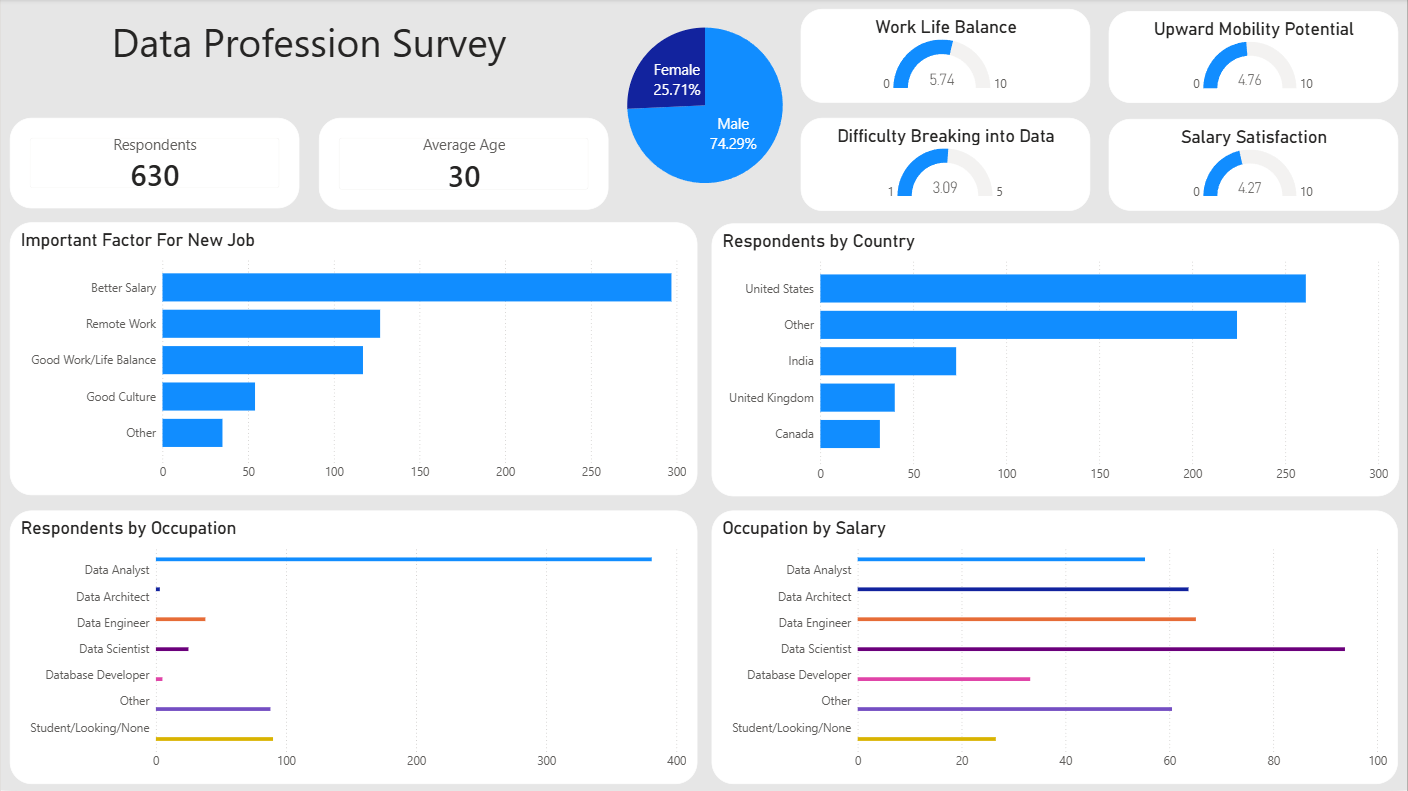

The dashboard page shown, as its layout file describes it:
{"tool":"powerbi","page":{"name":"Page 1","canvas":[1920,1080],"ordinal":0},"visuals":[{"type":"textbox","box":[11.9,17,817.7,124.4],"z":0},{"type":"cardVisual","fields":{"Data":["CountNonNull(Data Professional Survey.Q1 - Which Title Best Fits your Current Role?.1)"]},"box":[12.1,162.9,395.1,123.7],"z":1000},{"type":"clusteredBarChart","title":"Respondents by Country","fields":{"Category":["Data Professional Survey.Q11 - Which Country do you live in?.1"],"Y":["CountNonNull(Data Professional Survey.Q11 - Which Country do you live in?.1)"]},"box":[970.3,306.7,939.1,372.5],"z":2000},{"type":"clusteredBarChart","title":"Respondents by Occupation","fields":{"Category":["Data Professional Survey.Q1 - Which Title Best Fits your Current Role?.1"],"Y":["CountNonNull(Data Professional Survey.Q1 - Which Title Best Fits your Current Role?.1)"],"Series":["Data Professional Survey.Q1 - Which Title Best Fits your Current Role?.1"]},"box":[12.2,698.1,939,373.4],"z":3000},{"type":"clusteredBarChart","title":"Occupation by Salary","fields":{"Category":["Data Professional Survey.Q1 - Which Title Best Fits your Current Role?.1"],"Y":["Avg(Data Professional Survey.avg salary)"],"Series":["Data Professional Survey.Q1 - Which Title Best Fits your Current Role?.1"]},"box":[970.1,698.1,937.6,373.4],"z":4000},{"type":"pieChart","title":"Sex","fields":{"Category":["Data Professional Survey.Q9 - Male/Female?"],"Y":["CountNonNull(Data Professional Survey.Q9 - Male/Female?)"]},"box":[711.7,0,497.9,289.5],"z":5000},{"type":"clusteredBarChart","title":"Important Factor For New Job","fields":{"Y":["CountNonNull(Data Professional Survey.Q8 - If you were to look for a new job today, what would be the most important t)"],"Category":["Data Professional Survey.Q8 - If you were to look for a new job today, what would be the most important t"]},"box":[12.1,305,939.1,372.5],"z":6000},{"type":"gauge","title":"Work Life Balance","fields":{"Y":["Avg(Data Professional Survey.Q6 - How Happy are you in your Current Position with the following? (Work/Life Balance))"],"MinValue":["Min(Data Professional Survey.Q6 - How Happy are you in your Current Position with the following? (Work/Life Balance))"],"MaxValue":["Max(Data Professional Survey.Q6 - How Happy are you in your Current Position with the following? (Work/Life Balance))"]},"box":[1091.8,13.5,395.1,128.5],"z":7000},{"type":"gauge","title":"Salary Satisfaction","fields":{"Y":["Avg(Data Professional Survey.Q6 - How Happy are you in your Current Position with the following? (Salary))"],"MinValue":["Min(Data Professional Survey.Q6 - How Happy are you in your Current Position with the following? (Salary))"],"MaxValue":["Max(Data Professional Survey.Q6 - How Happy are you in your Current Position with the following? (Salary))"]},"box":[1512.6,163.7,395.1,125.8],"z":8000},{"type":"gauge","title":"Difficulty Breaking into Data","fields":{"Y":["Avg(Data Professional Survey.Q7 - How difficult was it for you to break into Data? - Copy)"],"MinValue":["Min(Data Professional Survey.Q7 - How difficult was it for you to break into Data? - Copy)"],"MaxValue":["Max(Data Professional Survey.Q7 - How difficult was it for you to break into Data? - Copy)"]},"box":[1091.8,162.4,395.1,127.2],"z":9000},{"type":"gauge","title":"Upward Mobility Potential","fields":{"Y":["Avg(Data Professional Survey.Q6 - How Happy are you in your Current Position with the following? (Upward Mobility))"],"MinValue":["Min(Data Professional Survey.Q6 - How Happy are you in your Current Position with the following? (Upward Mobility))"],"MaxValue":["Max(Data Professional Survey.Q6 - How Happy are you in your Current Position with the following? (Upward Mobility))"]},"box":[1512.6,16.2,395.1,125.8],"z":10000},{"type":"cardVisual","fields":{"Data":["Avg(Data Professional Survey.Q10 - Current Age)"]},"box":[434.3,162.4,395.1,125.8],"z":11000}]}

Visuals, with their boxes in screenshot pixels (x1, y1, x2, y2), scaled from the page's 1920x1080 canvas onto the 1408x791 screenshot:
textbox: locate(9, 12, 608, 104)
cardVisual - CountNonNull(Data Professional Survey.Q1 - Which Title Best Fits your Current Role?.1): locate(9, 119, 299, 210)
"Respondents by Country" clusteredBarChart: locate(712, 225, 1400, 497)
"Respondents by Occupation" clusteredBarChart: locate(9, 511, 698, 785)
"Occupation by Salary" clusteredBarChart: locate(711, 511, 1399, 785)
"Sex" pieChart: locate(522, 0, 887, 212)
"Important Factor For New Job" clusteredBarChart: locate(9, 223, 698, 496)
"Work Life Balance" gauge: locate(801, 10, 1090, 104)
"Salary Satisfaction" gauge: locate(1109, 120, 1399, 212)
"Difficulty Breaking into Data" gauge: locate(801, 119, 1090, 212)
"Upward Mobility Potential" gauge: locate(1109, 12, 1399, 104)
cardVisual - Avg(Data Professional Survey.Q10 - Current Age): locate(318, 119, 608, 211)
